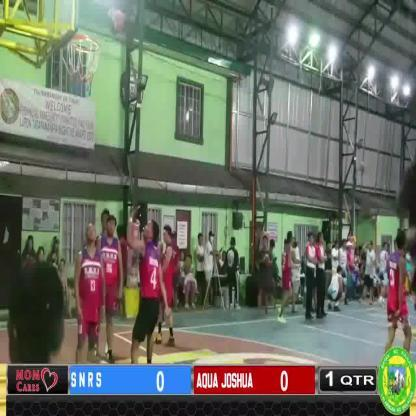basketball: (102, 3, 131, 49)
rim: (58, 12, 104, 107)
